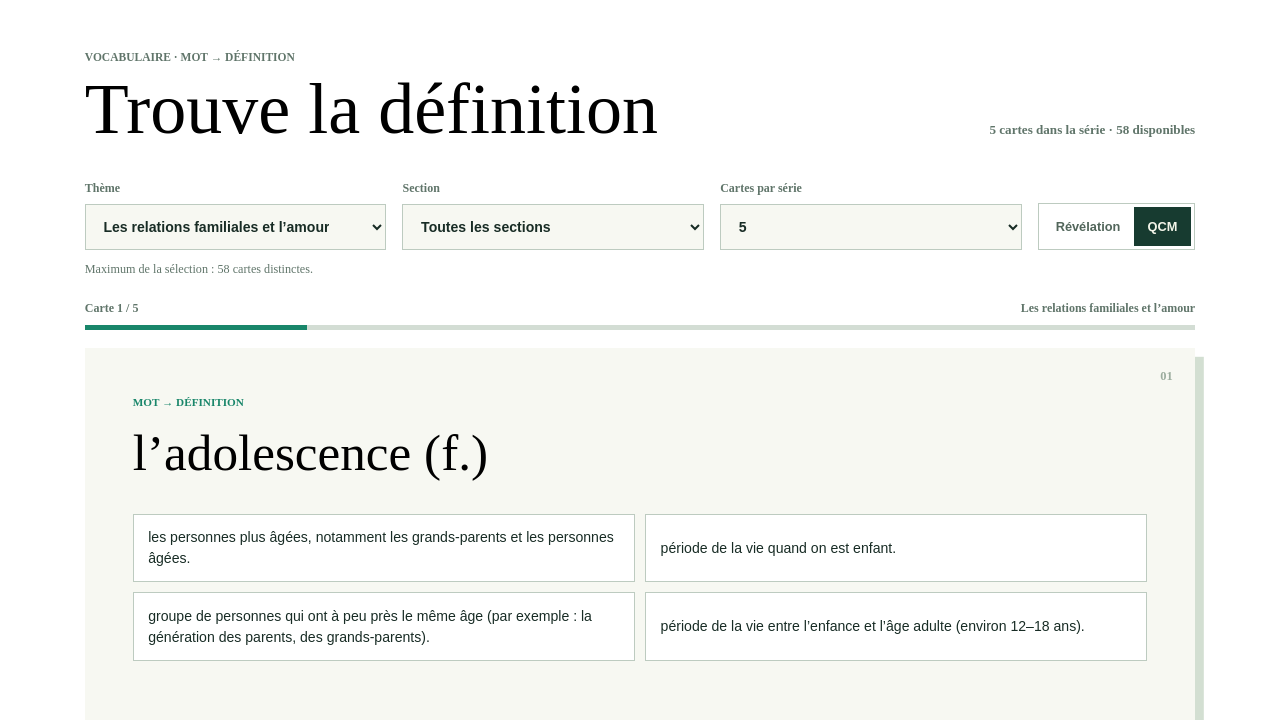
Test: VocabularyFlashcards › selects a random theme and then a random section
Select "Thème aléatoire" in the dropdown labelled "Thème": (236, 227) top-left (85, 204), bottom-right (386, 250)
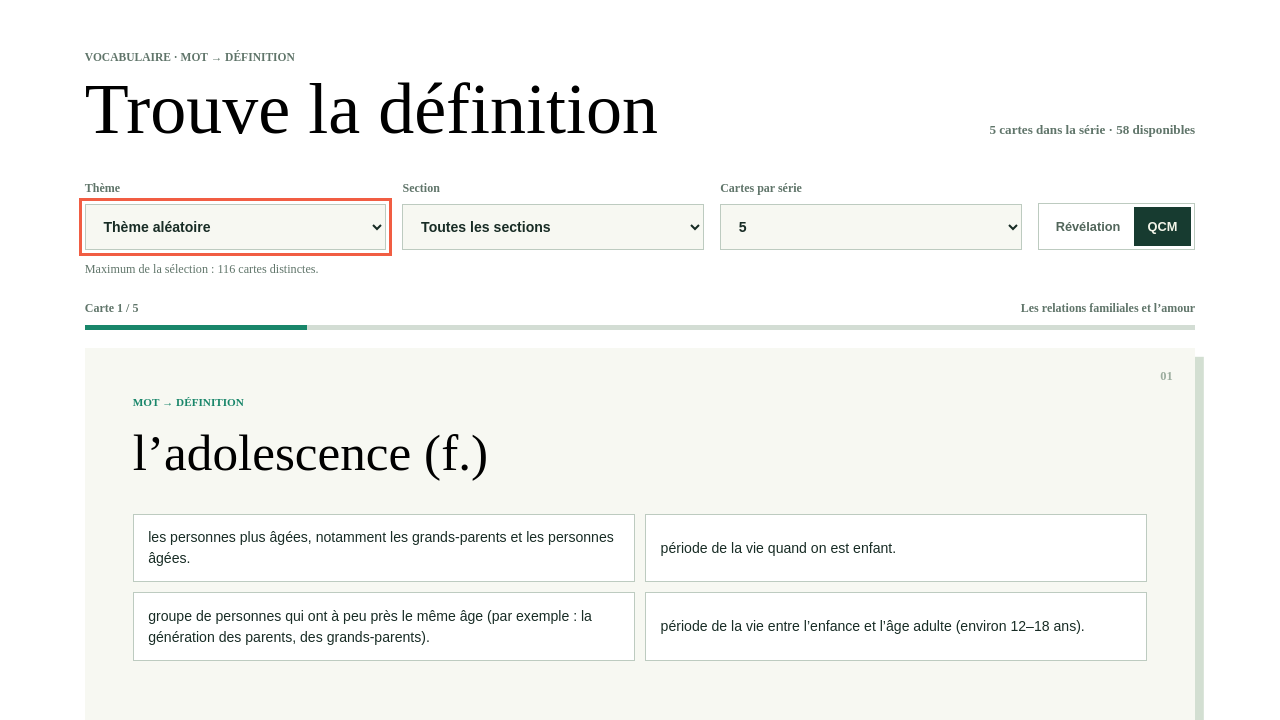
Select "Section aléatoire" in the dropdown labelled "Section": (553, 227) top-left (402, 204), bottom-right (704, 250)
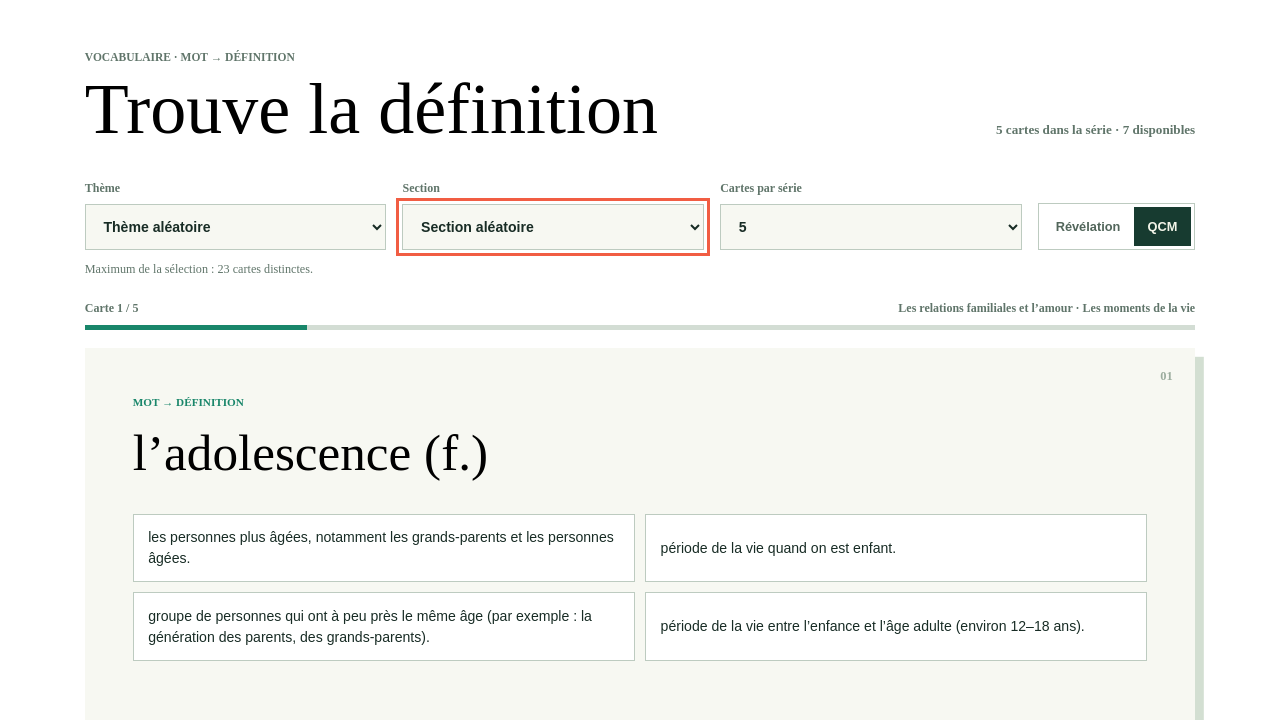
Expected: the text "Les relations familiales et l’amour · Les moments de la vie" is shown, top-left (898, 301), bottom-right (1195, 316)
